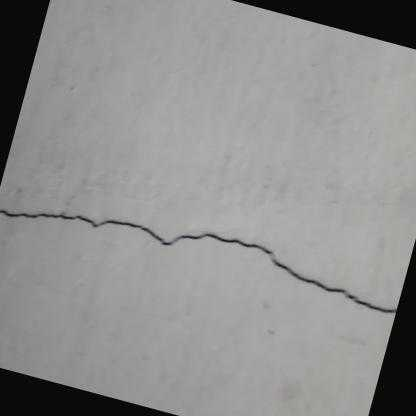crack: (0, 207, 397, 313)
